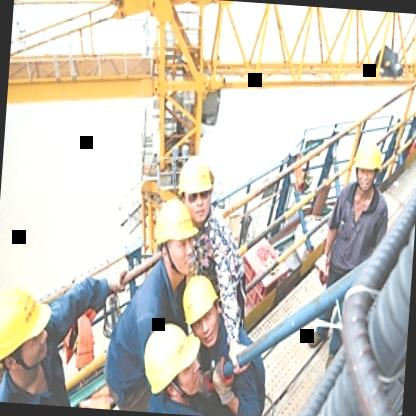helmet: (0, 276, 56, 388), (141, 320, 210, 409), (148, 194, 205, 276), (176, 270, 225, 350), (174, 151, 222, 225), (348, 136, 386, 200)
